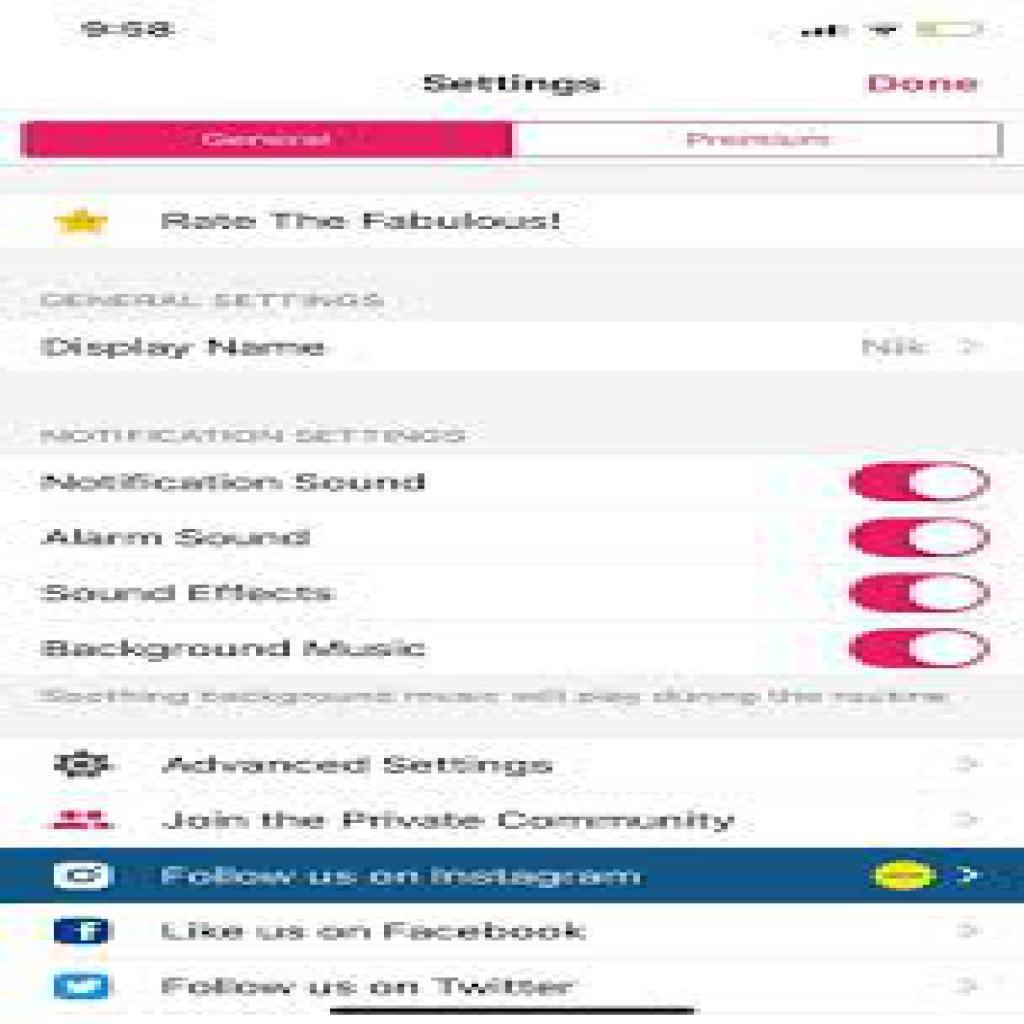button: (512, 120, 1003, 161), (22, 120, 513, 160)
icon: (48, 747, 118, 784), (52, 914, 115, 951), (54, 970, 116, 1007), (51, 861, 117, 894), (46, 807, 115, 836), (914, 18, 988, 41), (801, 17, 849, 40), (862, 17, 902, 41)
label: (162, 804, 738, 839), (158, 970, 579, 1005), (161, 864, 639, 894), (165, 751, 557, 785), (160, 917, 594, 945), (154, 206, 569, 235), (35, 422, 472, 449), (37, 330, 334, 367), (38, 470, 432, 497), (37, 635, 429, 662), (43, 576, 338, 611), (37, 520, 317, 554), (38, 287, 390, 314), (421, 68, 605, 100), (860, 68, 987, 100)
switch: (845, 571, 992, 615), (848, 517, 990, 560), (845, 628, 991, 669), (849, 462, 994, 503)
